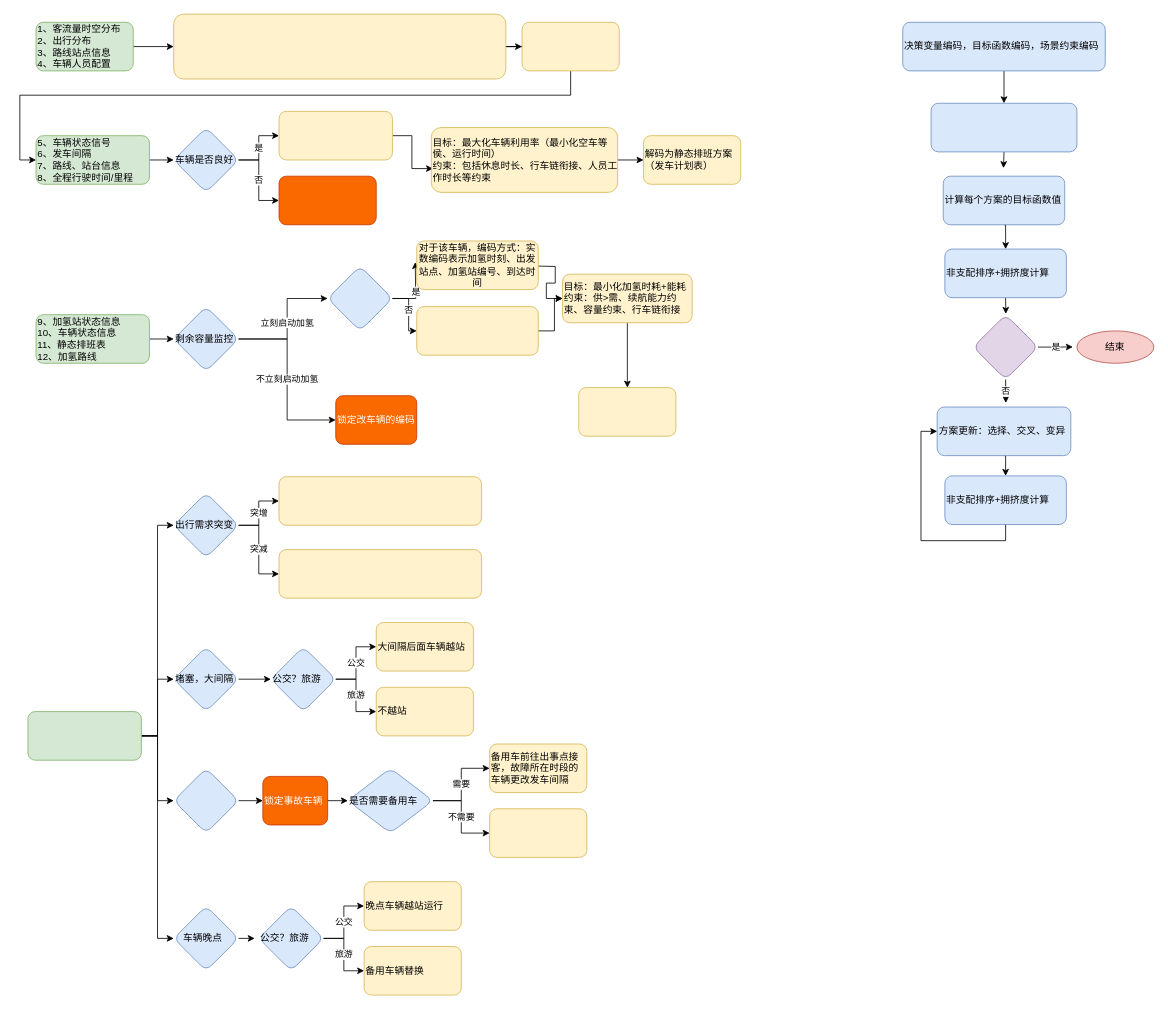
Some shapes in this 1168 by 1009 pixel diagram are drawn without their labels. The centre of each missing label's shape, as x and y in pixels:
"12、车辆预警信号 13、车辆行驶状态 14、道路车流状态" goes at point 84,735.
"不对该车辆进行编码" goes at point 327,200.
"对于该车辆，划分时间段，编码方式：01编码表示是否出车，实数编码表示出车编号" goes at point 335,135.
"对于该车辆，编码方式：实数编码表示预计加氢时刻、出发站点、加氢站编号、预计到达时间" goes at point 477,330.
"故障所在时段的车辆更改发车间隔" goes at point 538,832.
"旅游巴：不改变发车计划 公交巴：统计变化规律，更新发车间隔+排班表" goes at point 380,573.
"旅游巴：计算需求量，加发备用车 公交巴：统计变化规律，更新发车间隔+排班表" goes at point 380,500.
"是否到达场站" goes at point 359,298.
"根据1、2、3、4制定发车间隔 目标：最小化乘客候车时间（假设乘客到站满足泊松分布，计算总等候时间） 约束：包括载量约束、最大最小发车间隔约束、人车数量约束" goes at point 339,46.
"生成多个初始解（可行性方案）" goes at point 1003,127.
"终止条件？" goes at point 1005,346.
"解码为发车间隔（每个时间段的发车频率）" goes at point 570,46.
"解码为新的静态排班方案，包含加氢调度指令" goes at point 627,411.
"车辆故障" goes at point 206,800.
